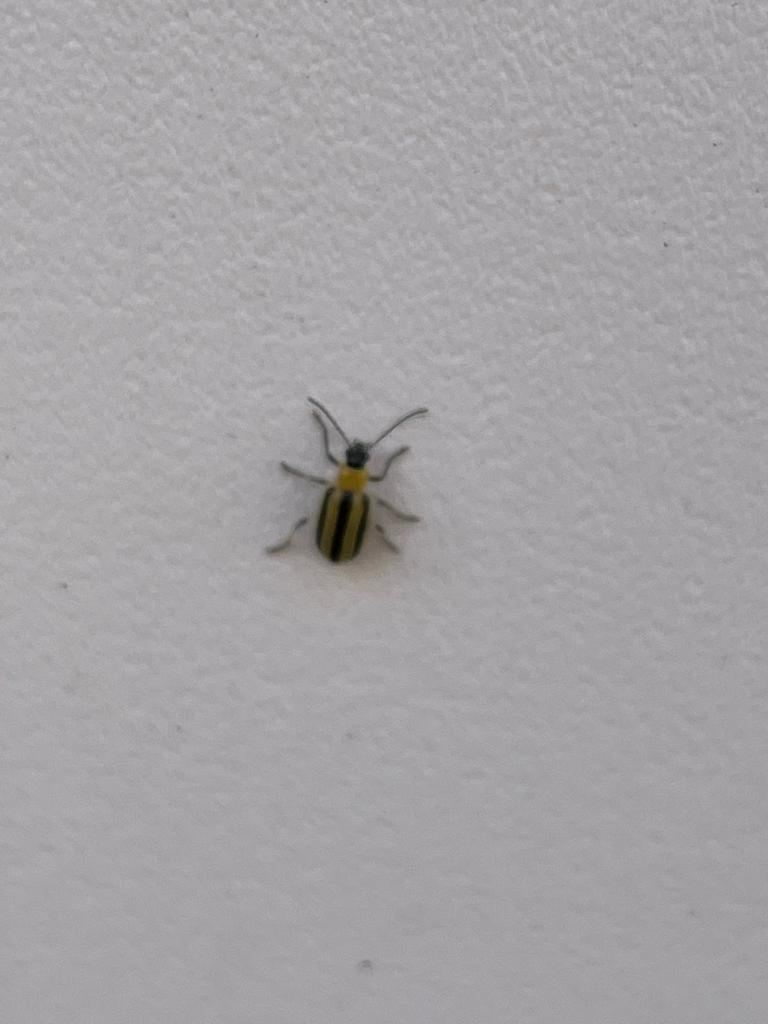potato_beetle: (220, 354, 464, 619)
